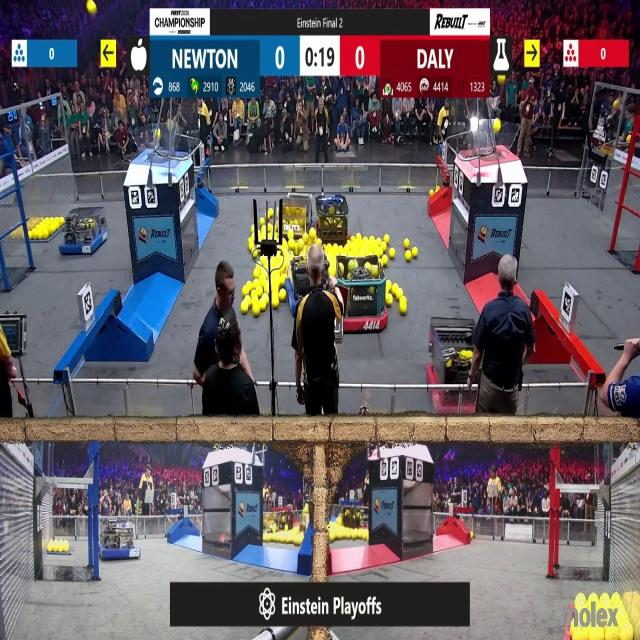ball_airborne: (89, 1, 98, 14), (493, 119, 501, 131), (498, 74, 505, 84), (155, 130, 160, 138), (627, 136, 632, 143)
ball_ground: (398, 301, 406, 316), (241, 304, 249, 316), (279, 289, 286, 301), (386, 293, 393, 305), (252, 306, 259, 318), (242, 286, 250, 296), (272, 300, 280, 310), (389, 248, 396, 259), (392, 283, 398, 295), (403, 251, 410, 261), (382, 255, 388, 266), (259, 302, 265, 313), (250, 289, 258, 297), (243, 296, 251, 304), (252, 270, 259, 279), (308, 228, 314, 238), (248, 240, 254, 250), (403, 240, 409, 249), (384, 235, 390, 244), (269, 209, 275, 218), (259, 254, 265, 263), (413, 248, 418, 258), (467, 532, 473, 540), (288, 241, 293, 250), (259, 218, 265, 225), (282, 240, 288, 247), (356, 235, 362, 242), (269, 222, 274, 230), (269, 233, 274, 241), (428, 189, 434, 195), (472, 534, 476, 542), (250, 224, 254, 231)
goal: (464, 123, 520, 160), (130, 130, 188, 162)
robot_blue: (62, 205, 110, 254), (99, 519, 138, 560), (274, 194, 306, 238)
robot_red: (429, 316, 483, 414), (338, 257, 388, 332), (312, 191, 348, 245), (341, 506, 370, 532)
